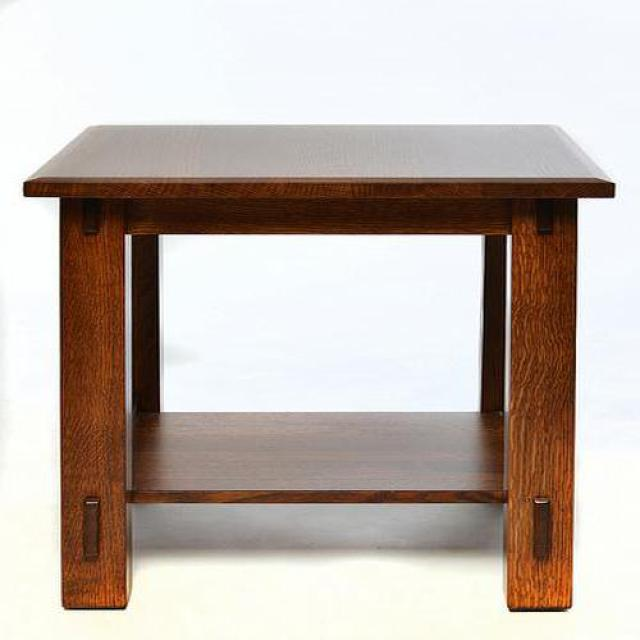table: (22, 124, 618, 616)
